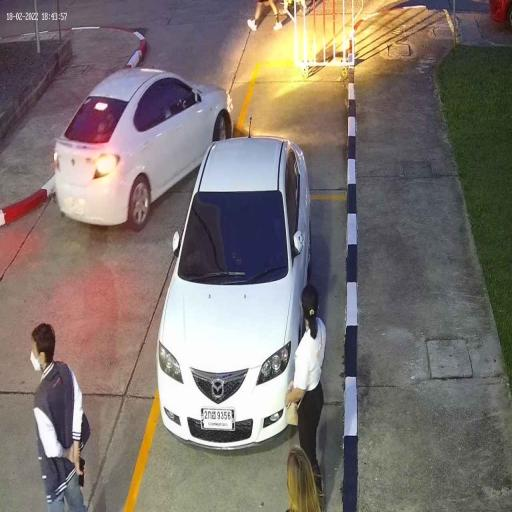car: (157, 134, 312, 450), (50, 65, 236, 229)
